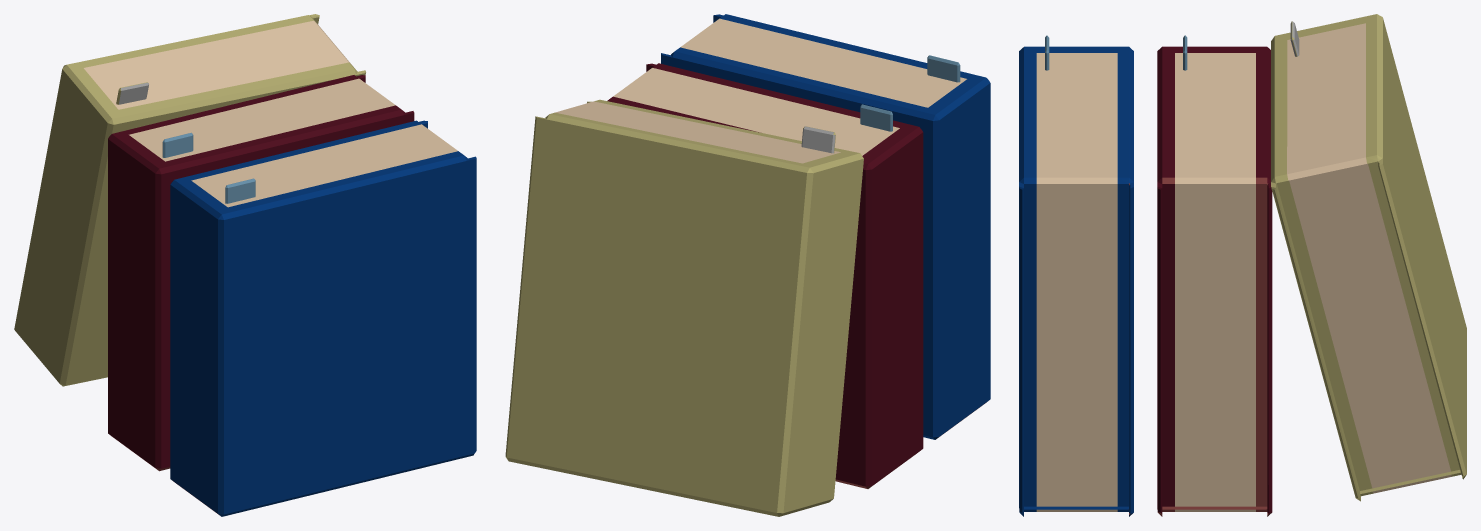
The model's file is booksupdated.fbx.
The picture shows the model from 3 angles, left to right: view 1: azimuth 30°, elevation 25°; view 2: azimuth 150°, elevation 25°; view 3: azimuth 270°, elevation 25°; orthographic projection. The views are drawn at different scales.
Visible parts, largest first — view 1: pCube4, pCube5, polySurface1; view 2: pCube5, pCube4, polySurface1; view 3: pCube5, polySurface1, pCube4.
Boxes of the visible parts, x1,y1,x2,y2 form: pCube4: [170, 120, 476, 516]; pCube5: [14, 14, 365, 386]; polySurface1: [108, 75, 414, 471]; pCube5: [505, 99, 863, 516]; pCube4: [661, 14, 990, 439]; polySurface1: [607, 63, 923, 488]; pCube5: [1271, 14, 1466, 501]; polySurface1: [1157, 35, 1272, 516]; pCube4: [1019, 35, 1133, 516].
Size of the model in its own units: 4.23 by 5.05 by 5.52.
